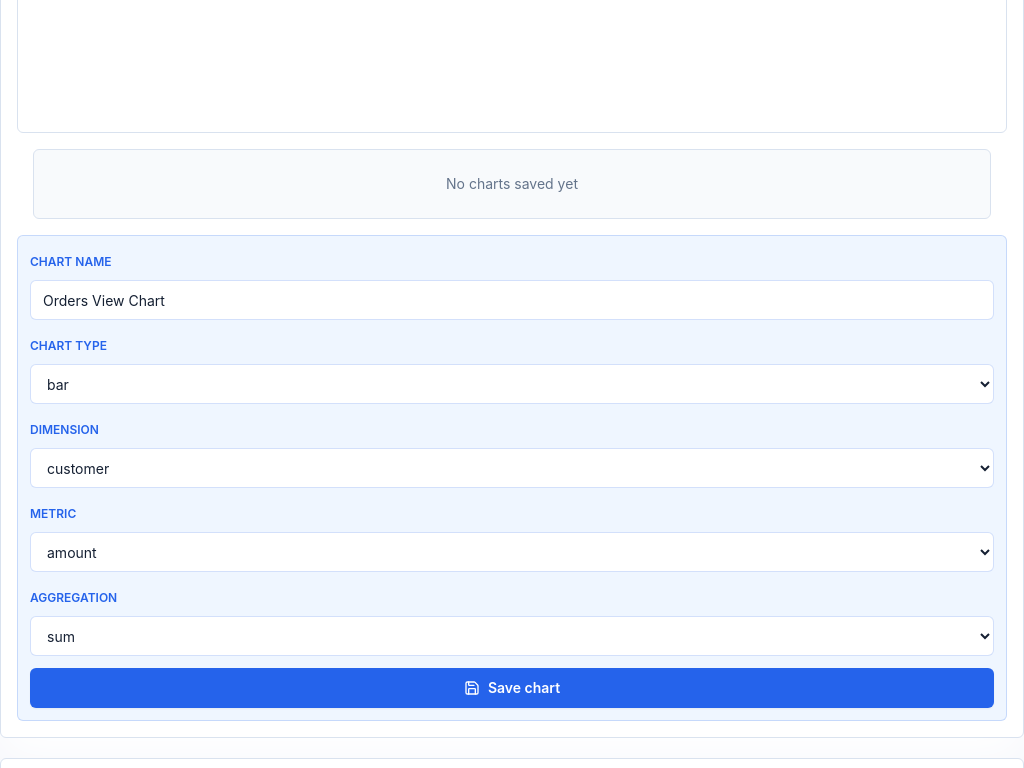
Scenario: DataViewSourcePage › loads data views and previews rows for chart sources
(page scrolled)
Select "line" in the dropdown labelled "Chart type" at (512, 384), box [30,364,994,404]
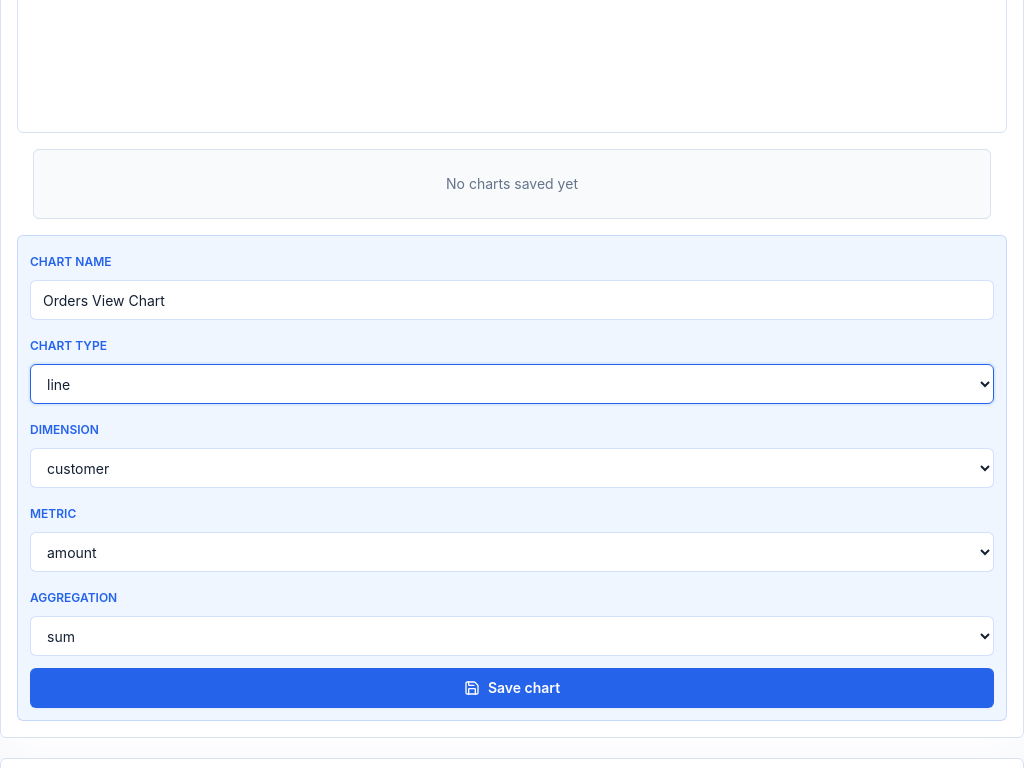
Select "avg" in the dropdown labelled "Aggregation" at (512, 636), box [30,616,994,656]
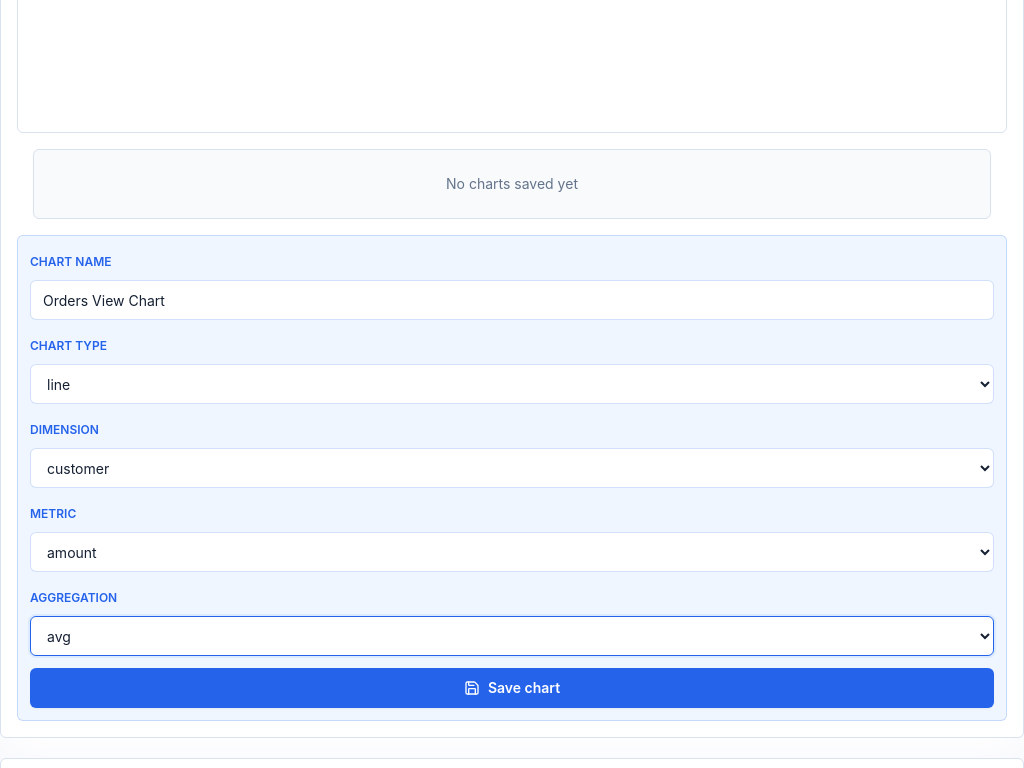
Click the button "Save chart" at (512, 688), box [30,668,994,708]
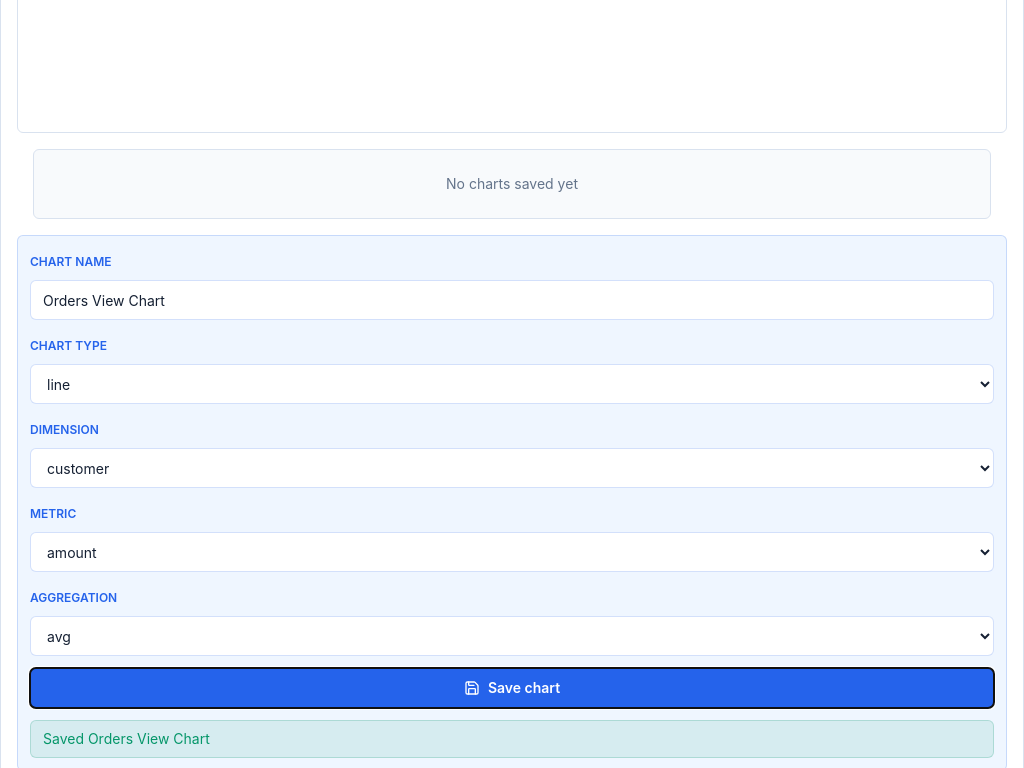
Result: the text "Saved Orders View Chart" is shown at [30,720,994,758]
